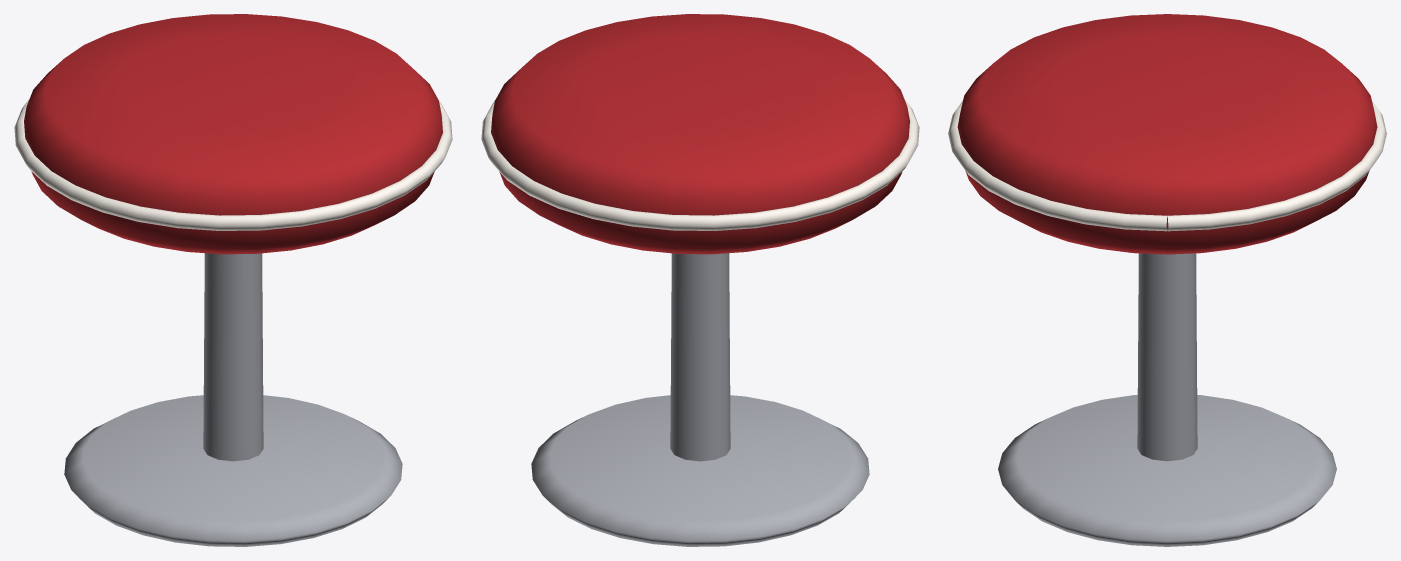
File: furn_diner_stool.glb
3 renders of one model, left to right at view 1: azimuth 30°, elevation 25°; view 2: azimuth 150°, elevation 25°; view 3: azimuth 270°, elevation 25°, orthographic.
Parts seen in each view (by area): view 1: furn_diner_stool_gloss, furn_diner_stool_main; view 2: furn_diner_stool_gloss, furn_diner_stool_main; view 3: furn_diner_stool_gloss, furn_diner_stool_main.
Part boxes in pixels (bbox=[...]): furn_diner_stool_gloss: bbox=[24, 14, 442, 546]; furn_diner_stool_main: bbox=[14, 99, 452, 230]; furn_diner_stool_gloss: bbox=[491, 14, 909, 546]; furn_diner_stool_main: bbox=[481, 99, 919, 230]; furn_diner_stool_gloss: bbox=[957, 14, 1377, 546]; furn_diner_stool_main: bbox=[948, 100, 1386, 231].
Size of the model in its own units: 0.466 by 0.464 by 0.466.
